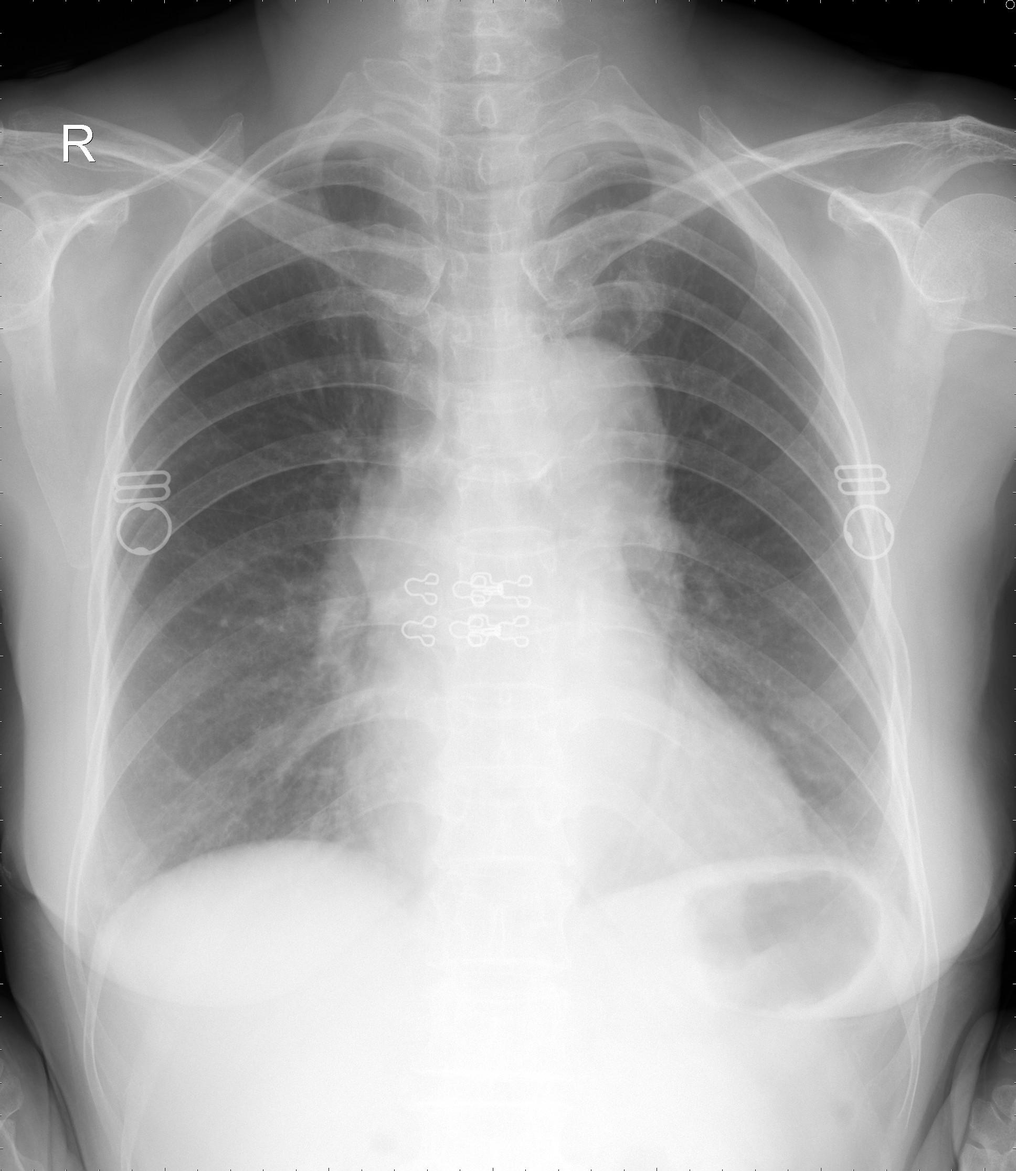Aortic enlargement: (505, 336, 682, 577)
Cardiomegaly: (331, 732, 811, 894)
